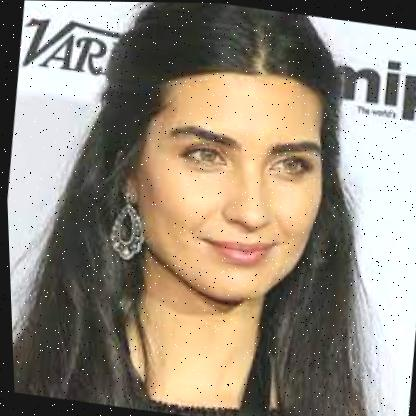person: (75, 1, 366, 320)
